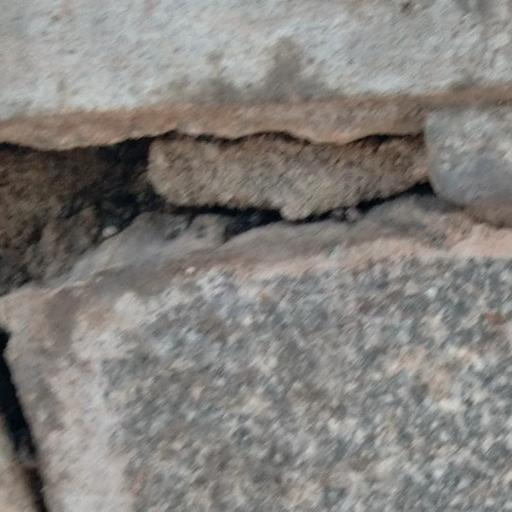spalling: (0, 85, 512, 355), (0, 321, 79, 509)
